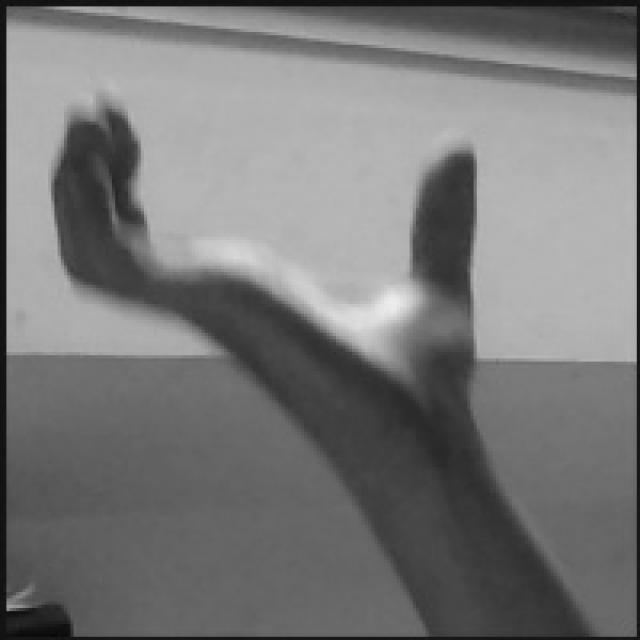space: (45, 86, 484, 364)
